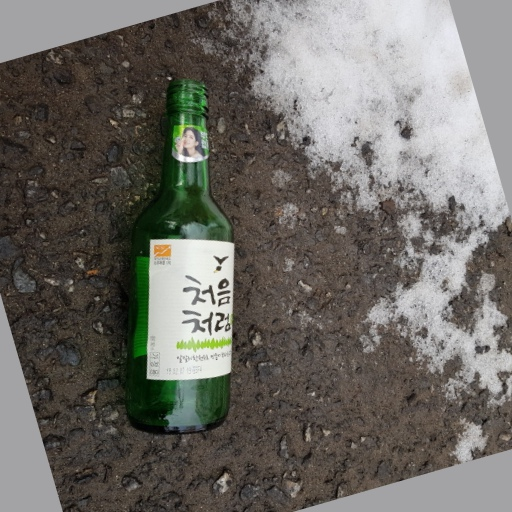Glass_0: (121, 75, 234, 432)
